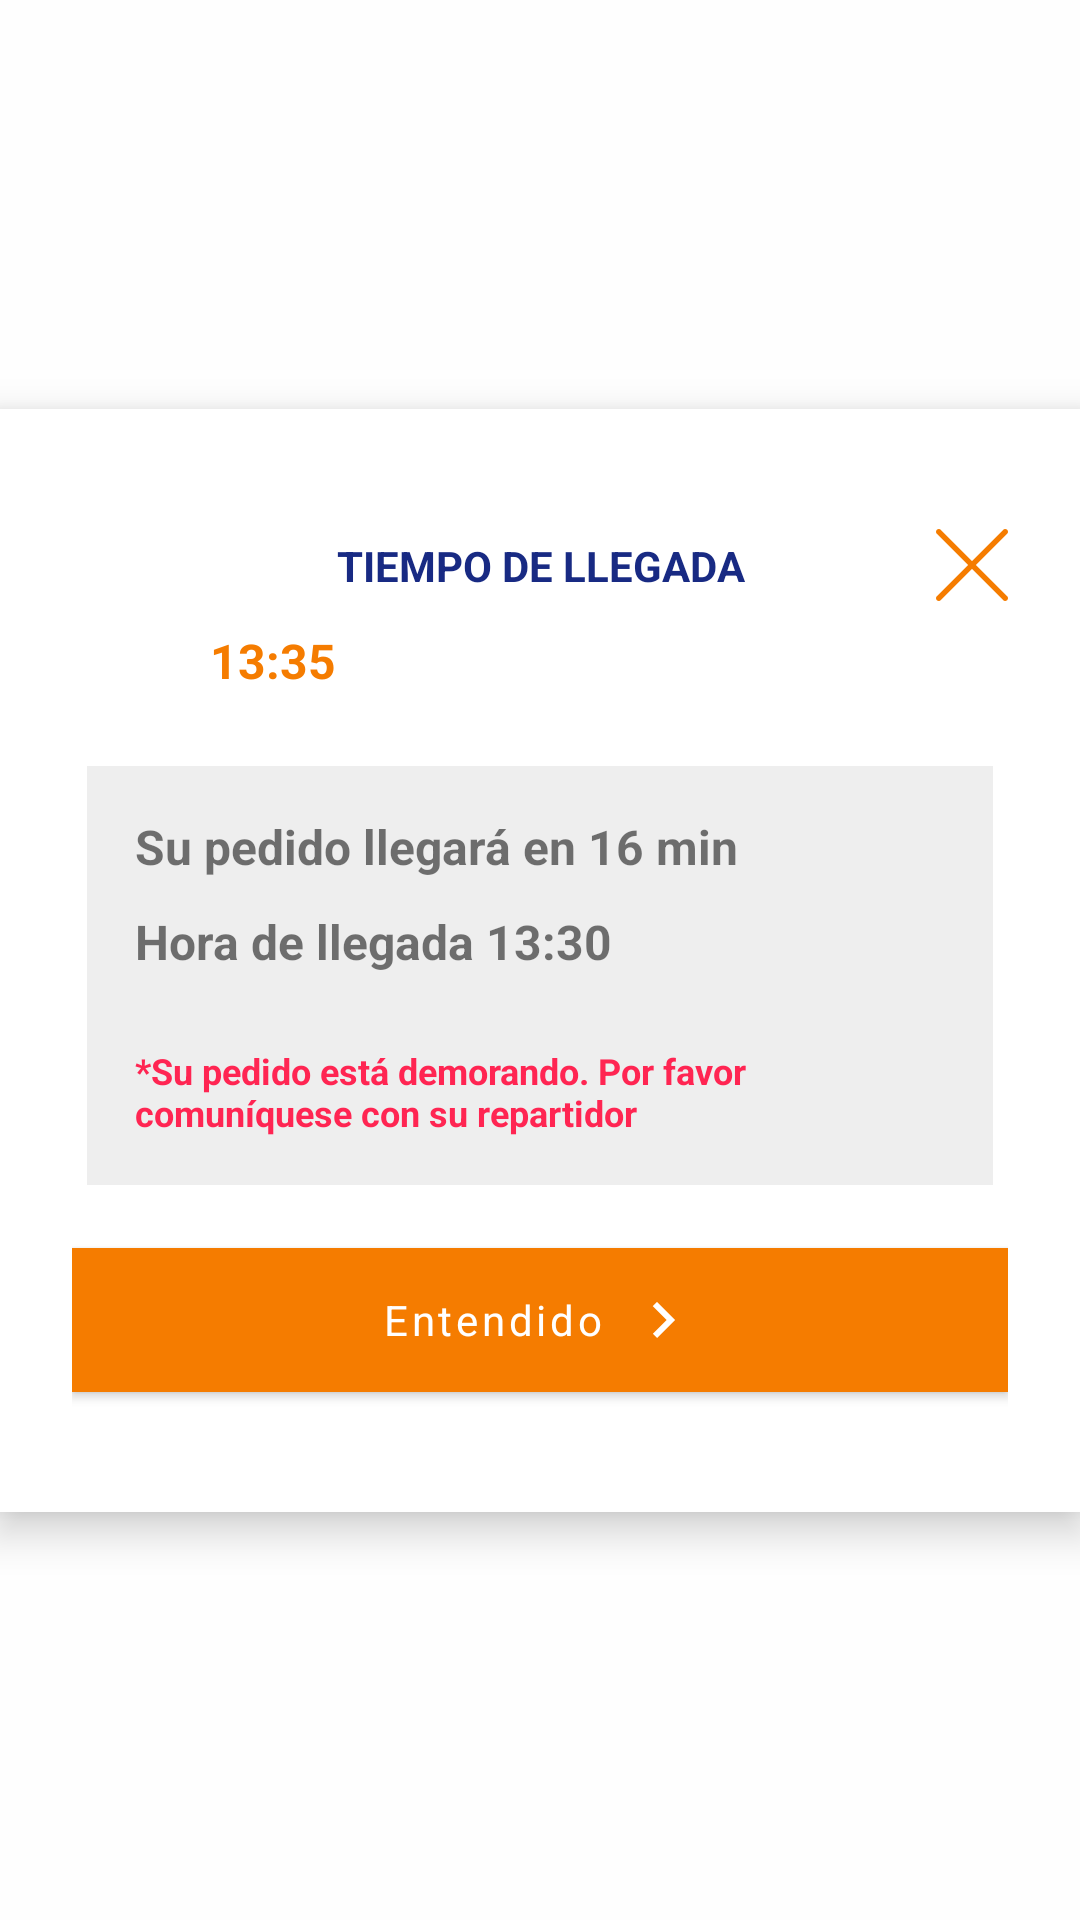

Where icons sit on this 1080×1920 app screen, as (x1, y1, x2, y2):
cancel: (936, 529, 1008, 601)
